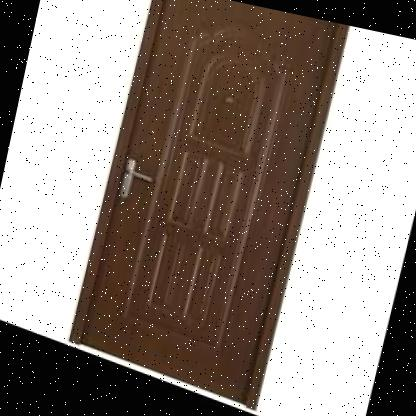door: (57, 0, 353, 410)
